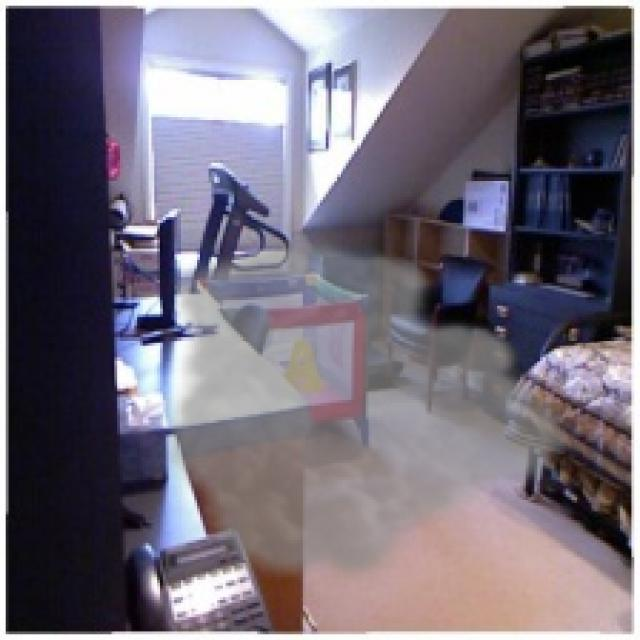smoke: (160, 234, 580, 589)
